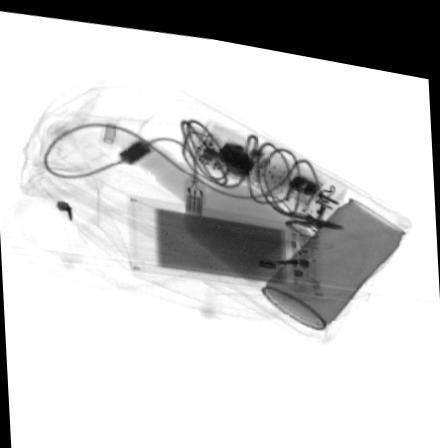Powerbank: (128, 189, 327, 289)
Scissors: (263, 181, 353, 228)
